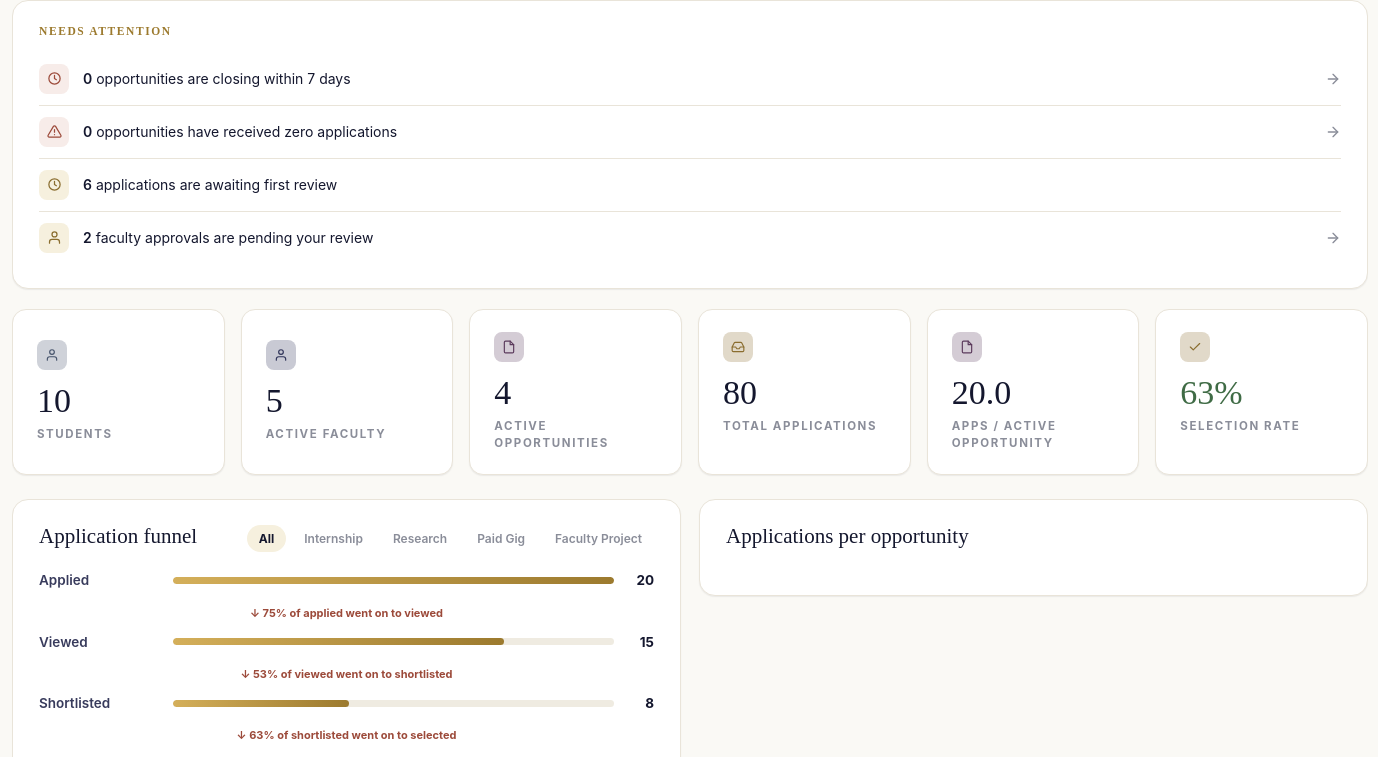
it: Overview — Application funnel › refetches the funnel scoped to a category when a category chip is clicked
Expected: the text "20.0" is shown, [952, 374, 1011, 411]
Click the button "Research": (420, 539) [381, 525, 459, 552]
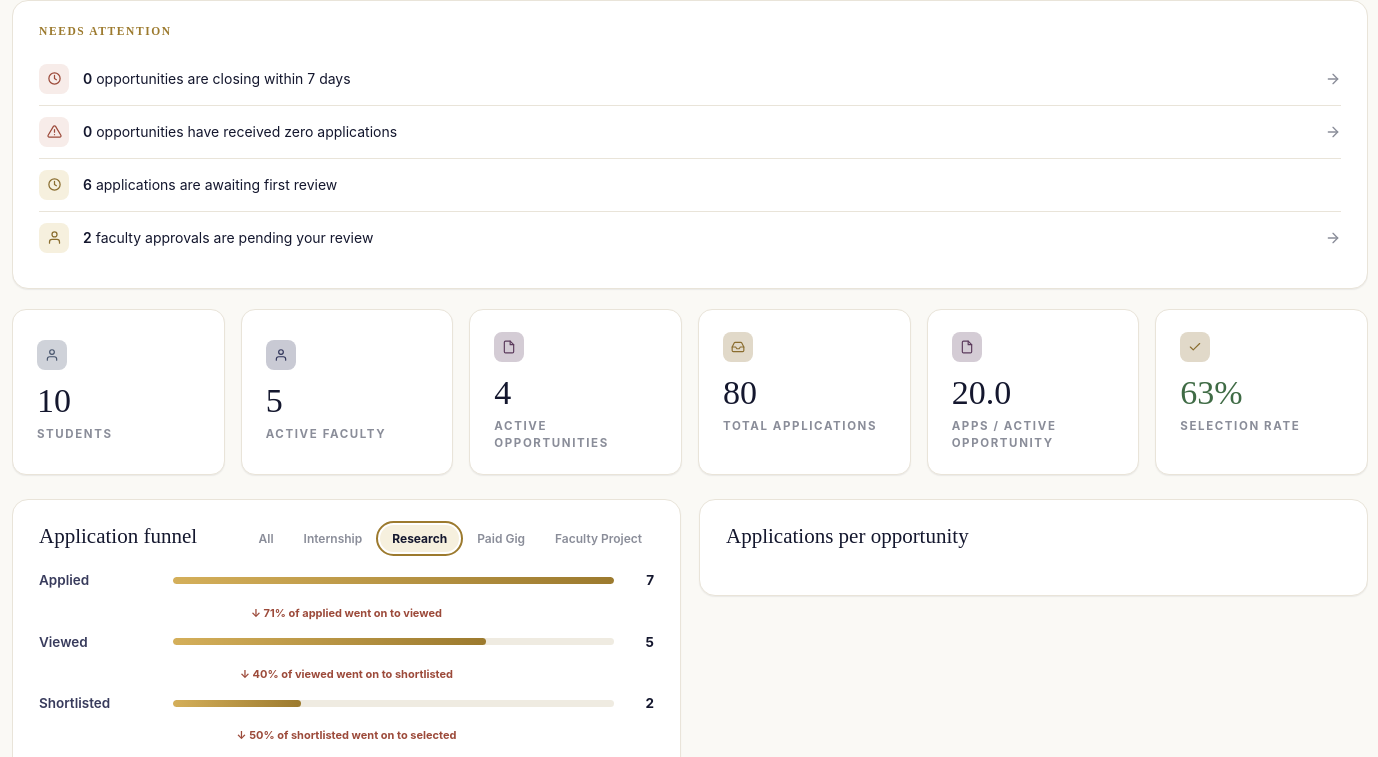
Expected: the text "7" is shown, [646, 572, 654, 588]
